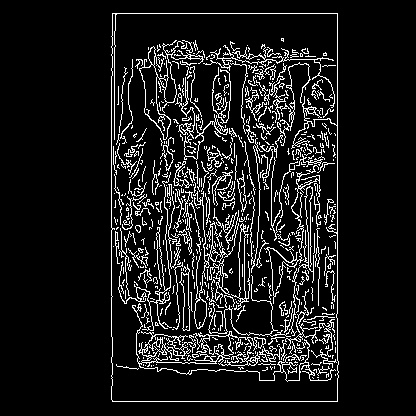buddha-standing: (58, 202, 226, 263)
